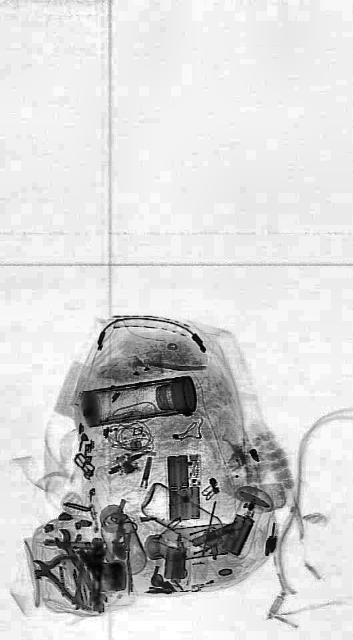Pliers: (30, 544, 82, 604)
Wrench: (51, 521, 104, 617)
